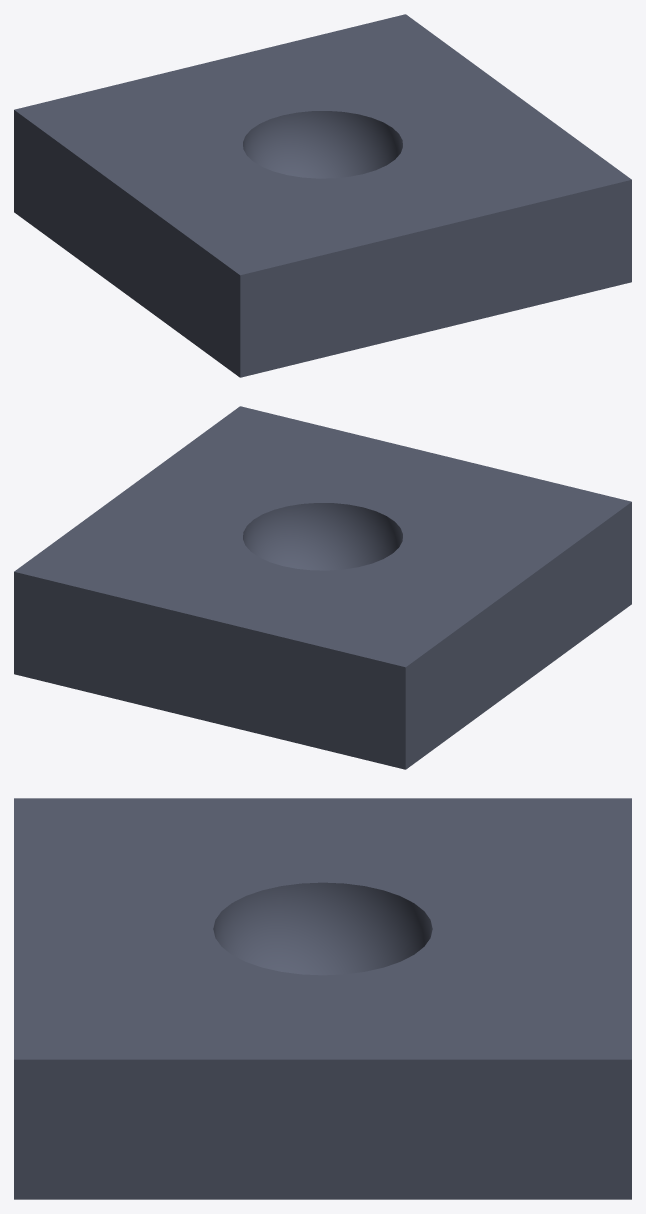
The model's file is Coffin bottom.fbx.
3 renders of one model, top to bottom at view 1: azimuth 30°, elevation 25°; view 2: azimuth 150°, elevation 25°; view 3: azimuth 270°, elevation 25°, orthographic. The views are drawn at different scales.
Visible parts, largest first — view 1: Coffin_bottom; view 2: Coffin_bottom; view 3: Coffin_bottom.
Boxes of the visible parts, <box> form: Coffin_bottom: <box>14,14,631,377</box>; Coffin_bottom: <box>14,406,631,769</box>; Coffin_bottom: <box>14,798,631,1199</box>.
Bounding box in the file's own units: 200 × 200 × 50.
